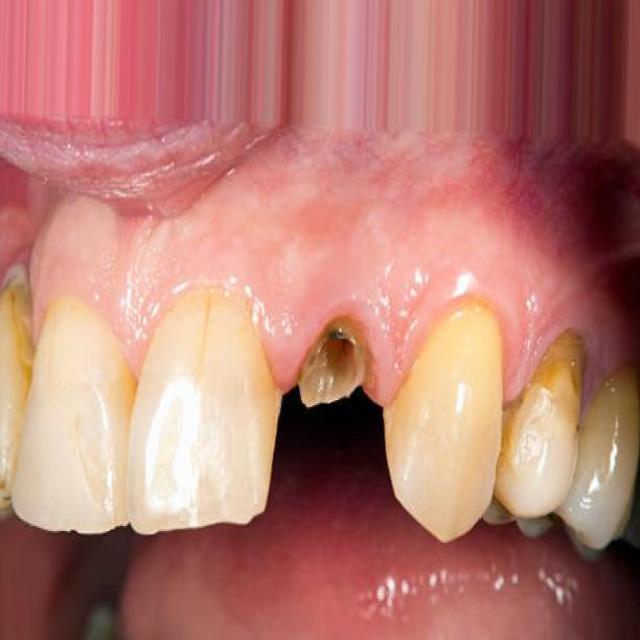caries: (292, 307, 388, 428), (519, 319, 589, 433), (0, 264, 40, 374)
